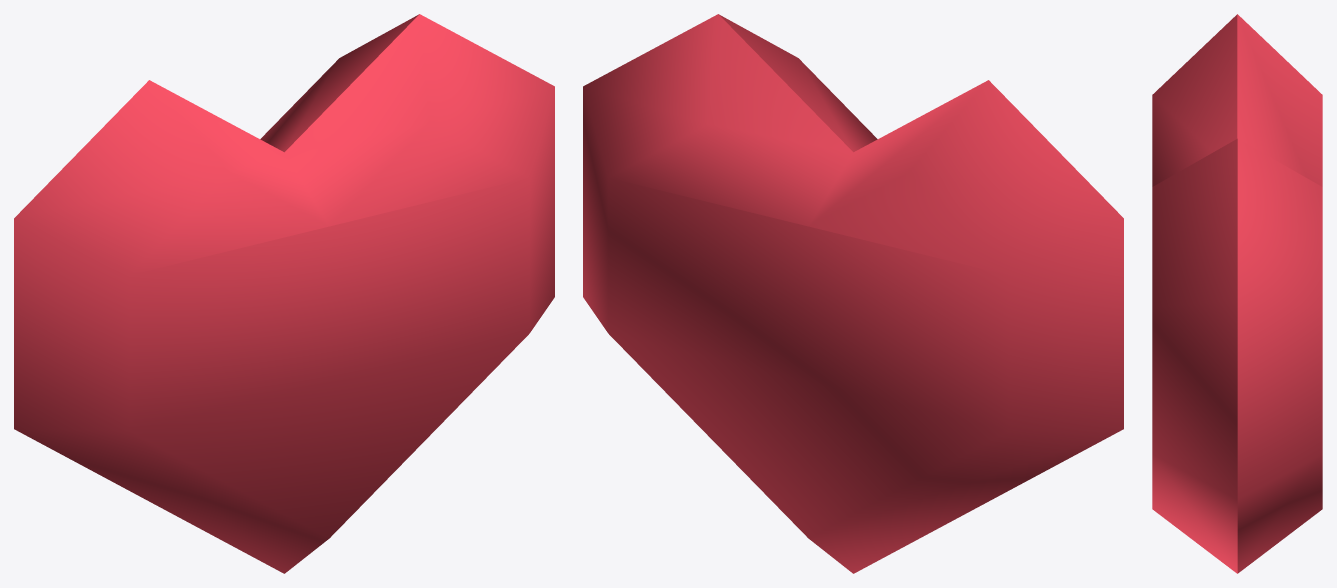
The model's file is heart.fbx.
3 views of the same model, side by side, from view 1: azimuth 30°, elevation 25°; view 2: azimuth 150°, elevation 25°; view 3: azimuth 270°, elevation 25° (orthographic). The views are drawn at different scales.
Visible parts, largest first — view 1: heart; view 2: heart; view 3: heart.
Boxes of the visible parts, <box> form: heart: <box>14,14,554,573</box>; heart: <box>583,14,1123,573</box>; heart: <box>1152,14,1322,573</box>.
Bounding box in the file's own units: 4.12 × 3.84 × 1.19.
